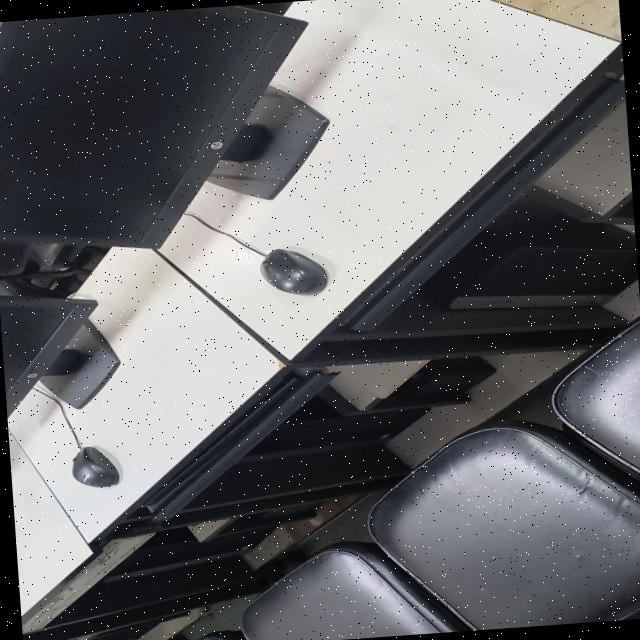Chair: (367, 421, 640, 630), (241, 541, 470, 640), (551, 319, 640, 476)
Cpu: (449, 246, 638, 308), (248, 396, 429, 454), (104, 527, 271, 583)
Monitor: (0, 5, 318, 248), (0, 295, 118, 418)
Mouse: (259, 248, 326, 295), (71, 446, 118, 487)
